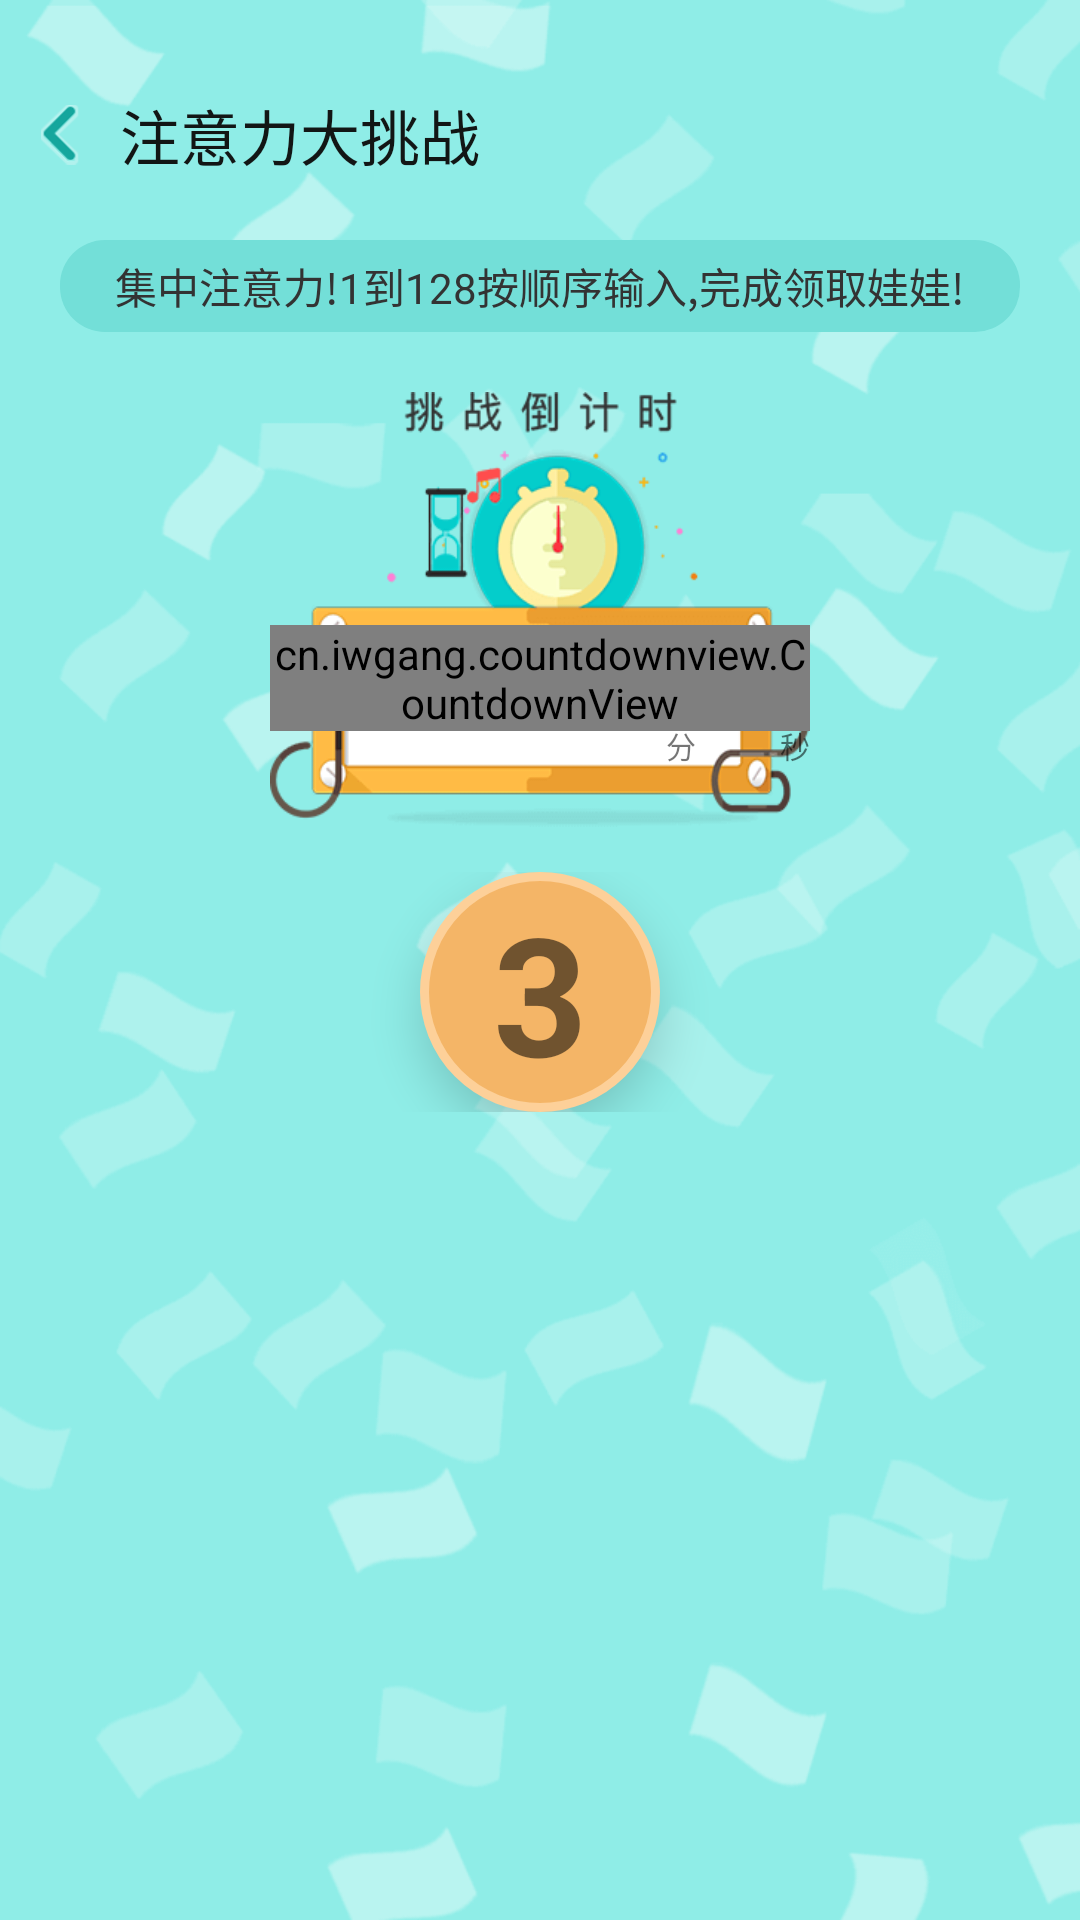

Locate icon controls on the screen. Image size 1080px×1920px, boxes as (x1, y1, x2, y2).
attention back: (41, 105, 78, 165)
